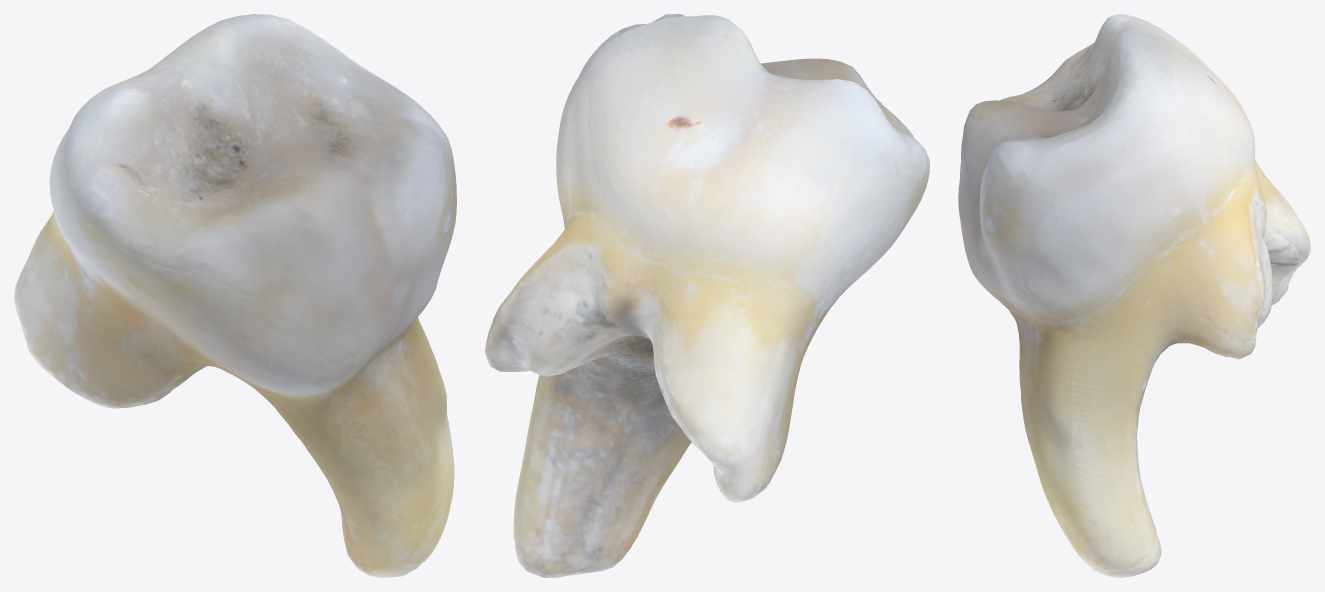
The model's file is tooth.glb.
The picture shows the model from 3 angles, left to right: view 1: azimuth 30°, elevation 25°; view 2: azimuth 150°, elevation 25°; view 3: azimuth 270°, elevation 25°; orthographic projection. The views are drawn at different scales.
Visible parts, largest first — view 1: Object_2; view 2: Object_2; view 3: Object_2.
Part boxes in pixels (bbox=[...]): Object_2: bbox=[14, 14, 456, 577]; Object_2: bbox=[485, 14, 929, 577]; Object_2: bbox=[958, 14, 1310, 577].
Bounding box in the file's own units: 0.2348 × 0.3488 × 0.2329.
Materials: 1 (1 with a texture image).
